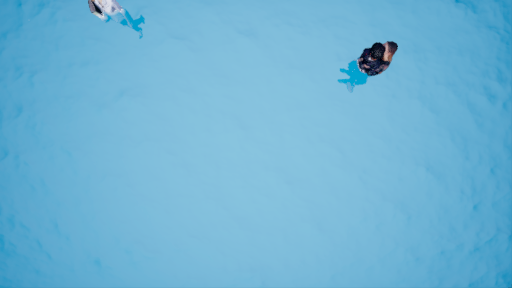person: (345, 35, 402, 93), (82, 1, 160, 41)
